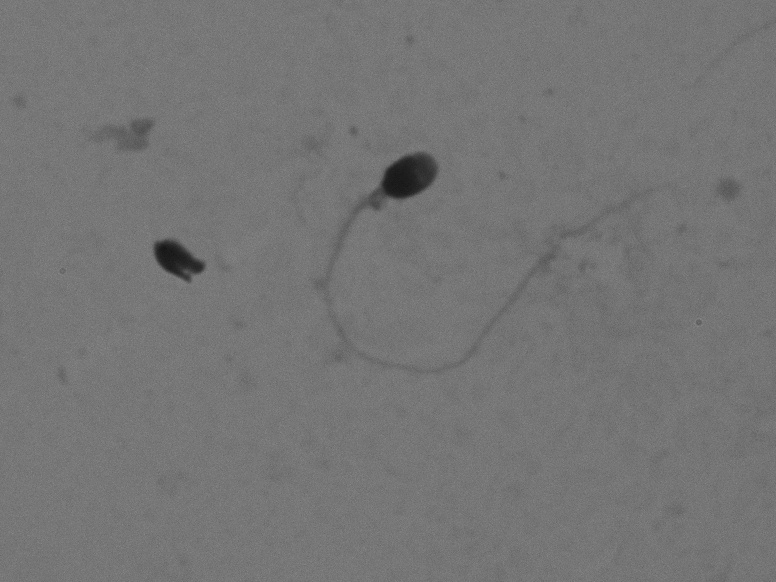Abnormal: (266, 139, 687, 388)
